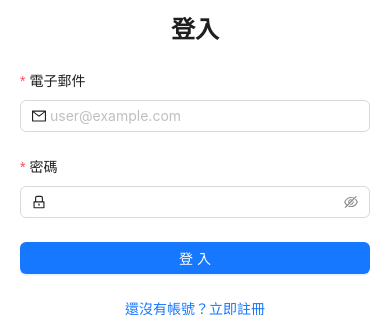
Test: LoginPage › 未填寫即提交時應顯示 email 與 password 必填提示
Click the button "登 入" at (195, 258), box x1=20 y1=242 x2=370 y2=274
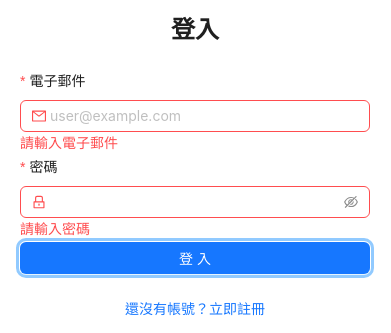
Expected: the text "請輸入電子郵件" is shown, x1=20 y1=134 x2=118 y2=151
Expected: the text "請輸入密碼" is shown, x1=20 y1=220 x2=90 y2=237
